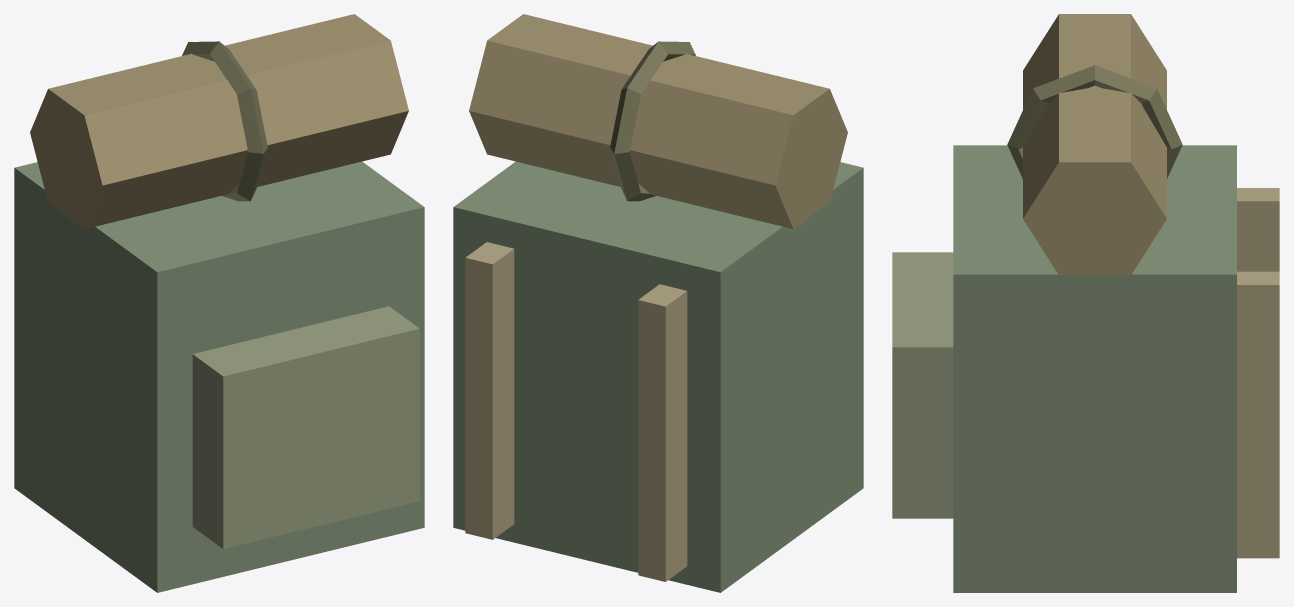
Rendered from map-exclusive-v3__ridge_06.glb.
The picture shows the model from 3 angles, left to right: view 1: azimuth 30°, elevation 25°; view 2: azimuth 150°, elevation 25°; view 3: azimuth 270°, elevation 25°; orthographic projection.
Visible parts, largest first — view 1: ridge_06; view 2: ridge_06; view 3: ridge_06.
Boxes of the visible parts, x1,y1,x2,y2 form: ridge_06: (14,14,424,592); ridge_06: (453,14,863,592); ridge_06: (892,14,1279,592).
Bounding box in the file's own units: 0.78 × 1.13 × 0.86.
